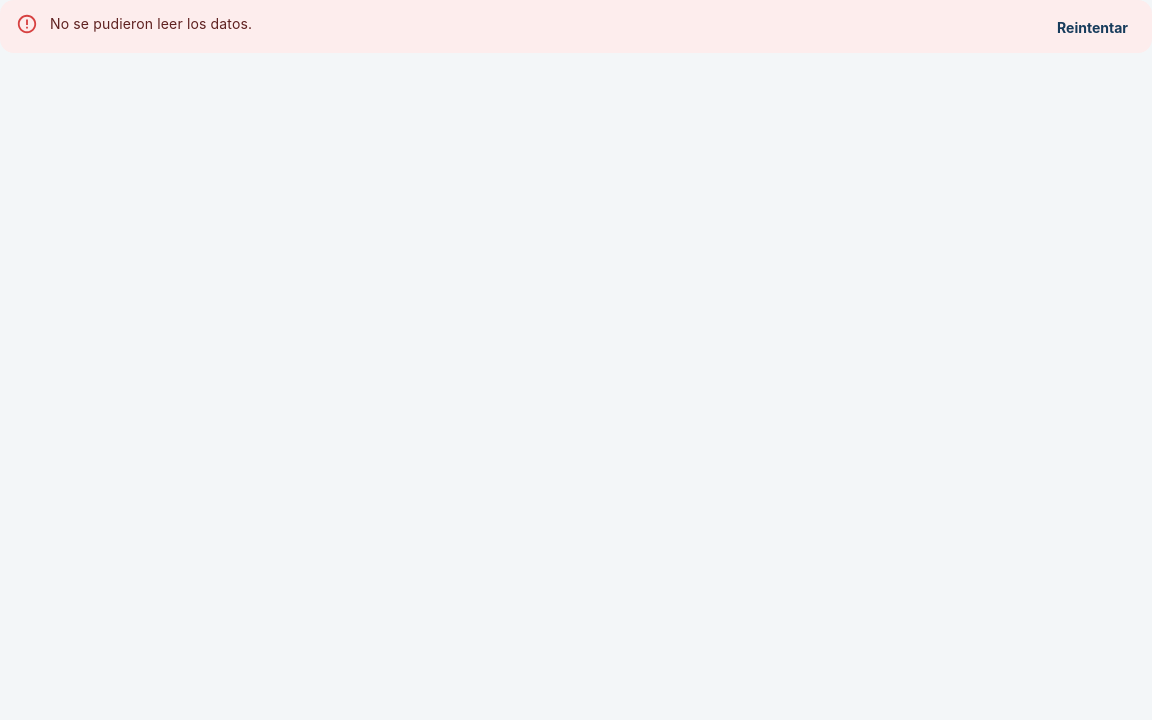
it: recovers from a malformed session without exposing private routes
Click the button "Reintentar" at {"x": 1092, "y": 28}, box [1041,10,1144,46]
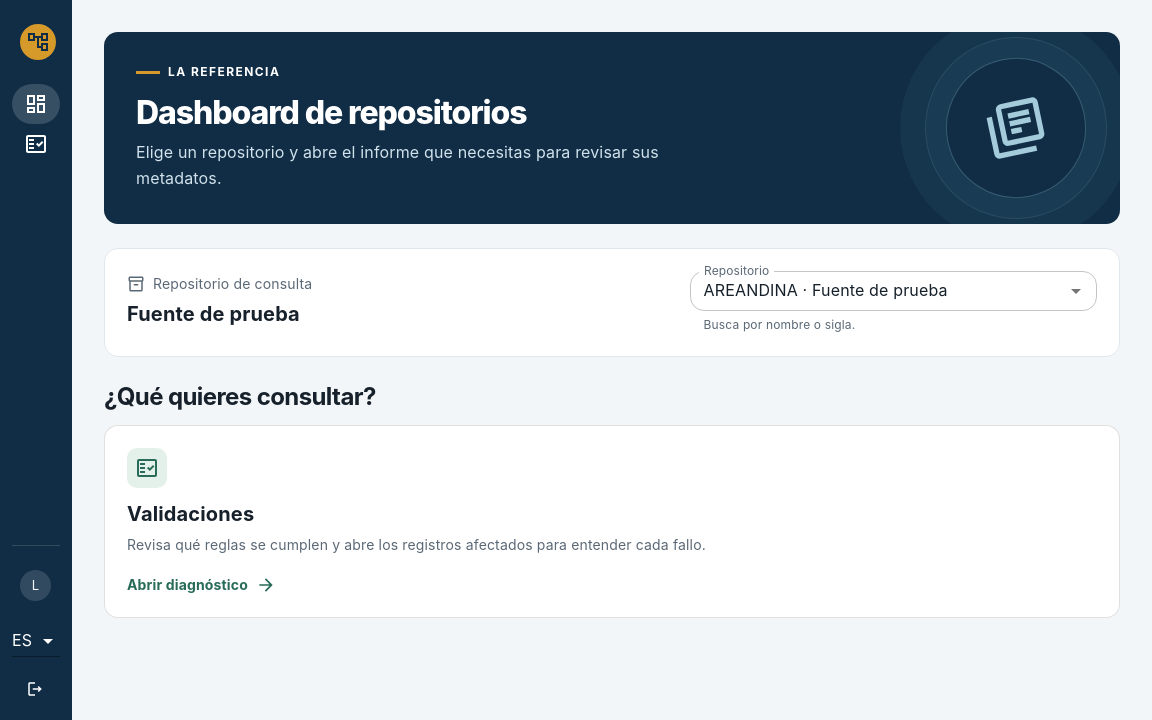
Check: the dropdown labelled "Repositorio" is shown, box [696,276,1032,304]
